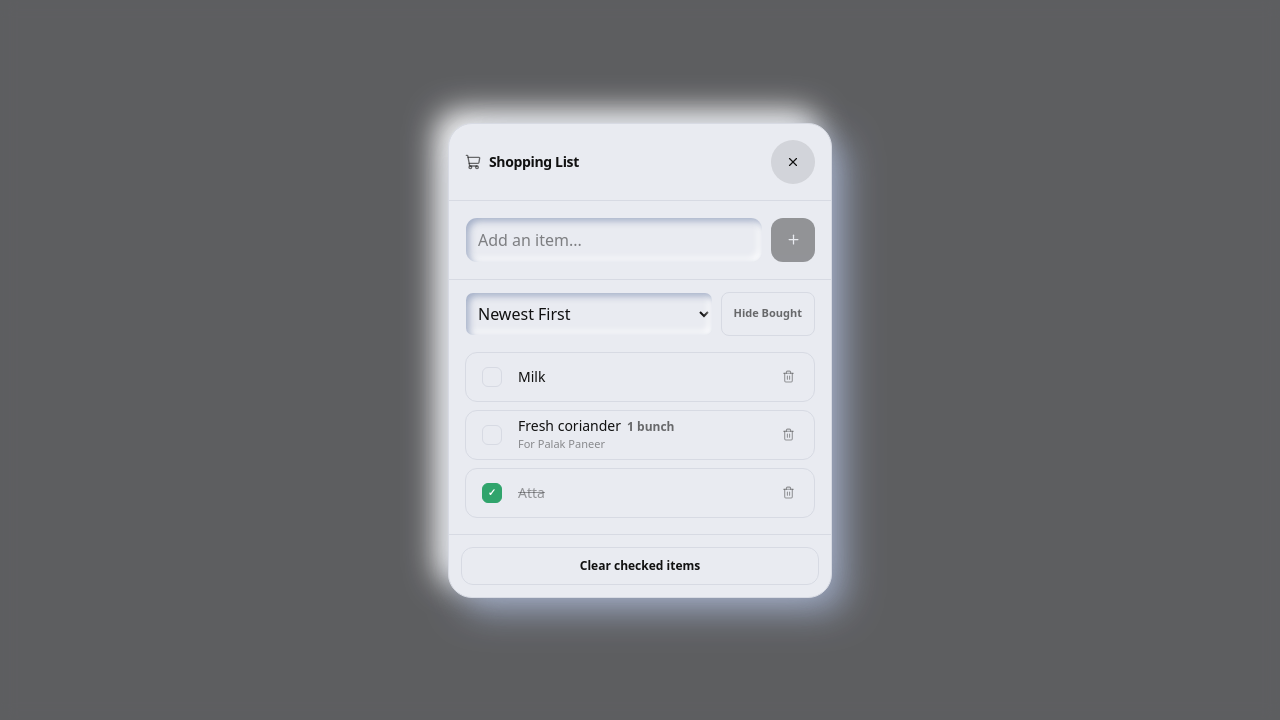
it: ShoppingListModal — editing › adds an item for the signed-in user and puts it at the top
This screenshot has width=1280, height=720.
Expected: the text "Milk" is shown, [518,366,545,386]
Type "  Ghee  " into the field with placeholder "Add an item..." at (614, 240), box [465,216,763,262]
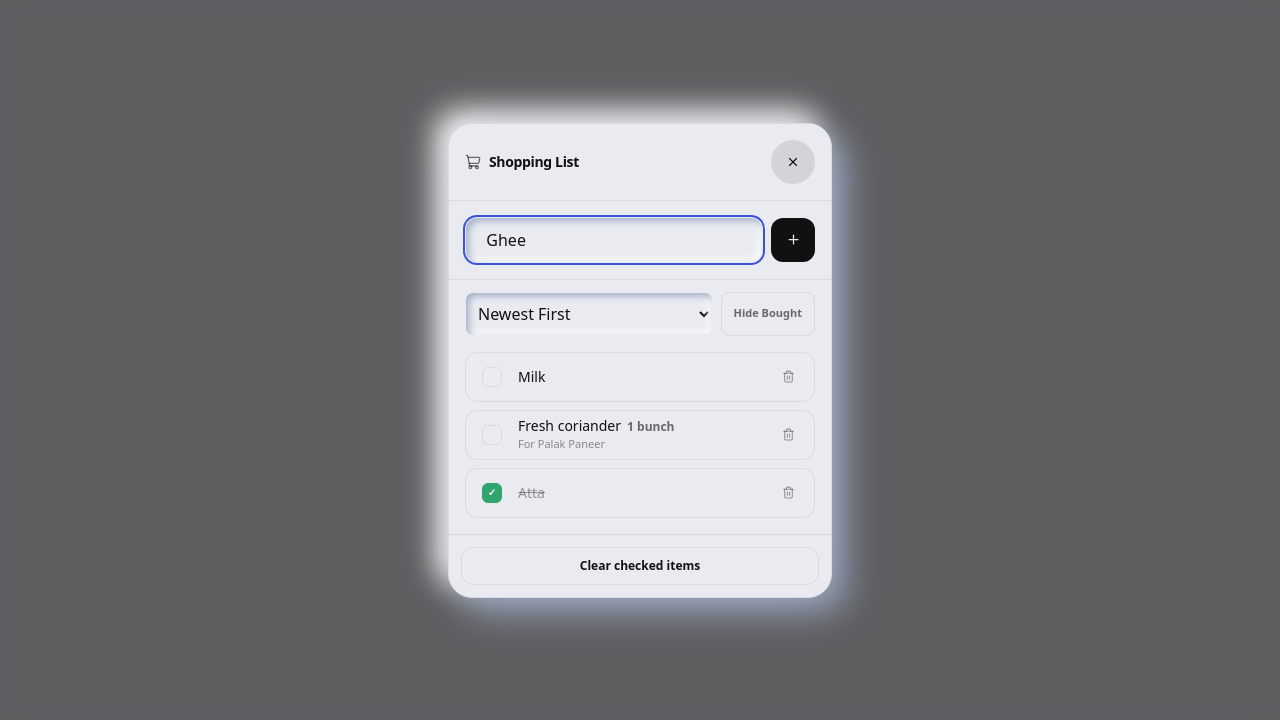
Click the button named "Add item" at (793, 240), box [771,218,815,262]
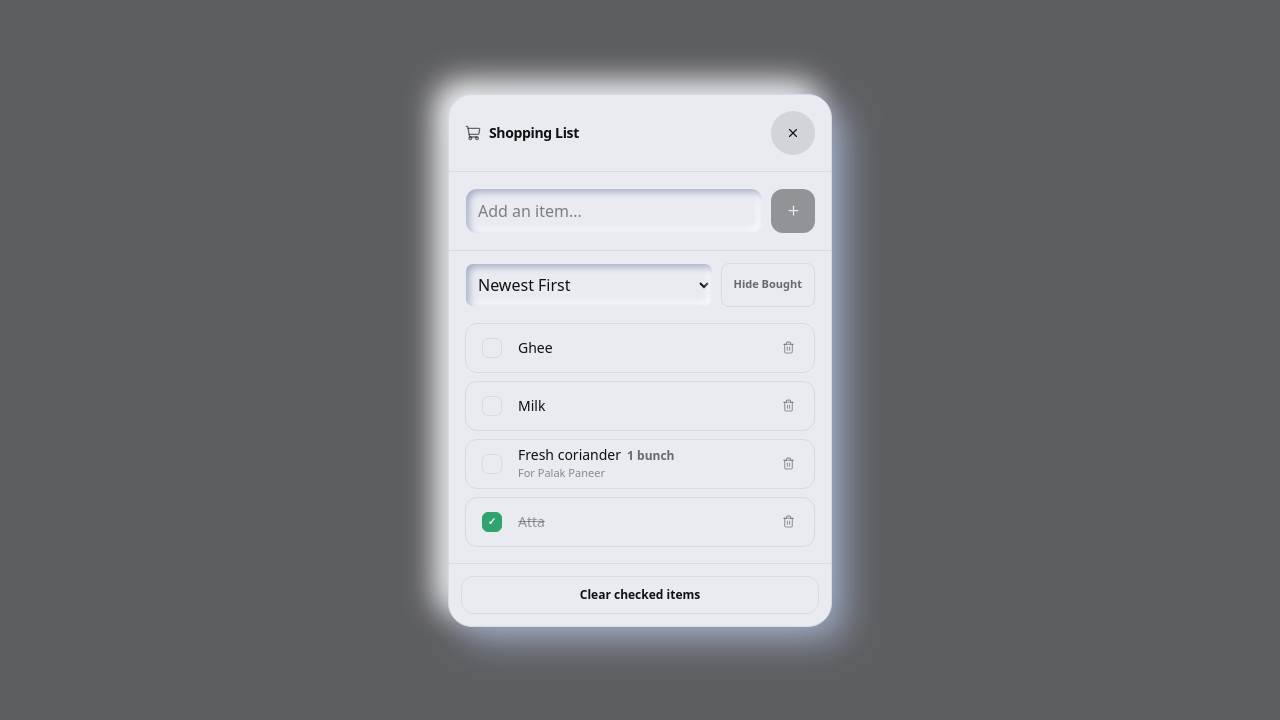
Expected: the text "Ghee" is shown, [518,338,553,356]
Expected: the field with placeholder "Add an item..." is empty, [465,188,763,234]
